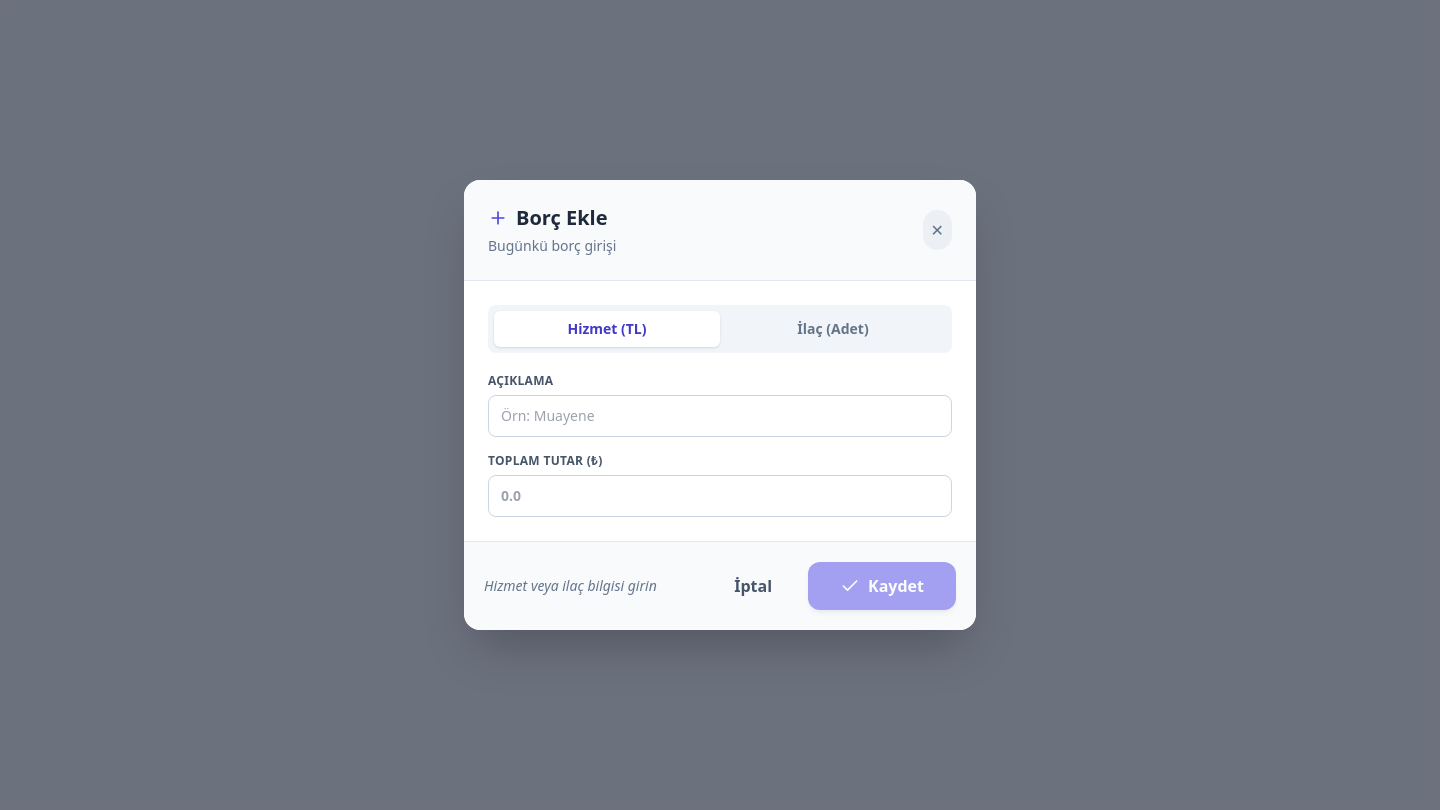
Test: DebtModal › kalem cikarilabilir
Click the button "İlaç (Adet)" at (833, 329), box x1=720 y1=311 x2=946 y2=347
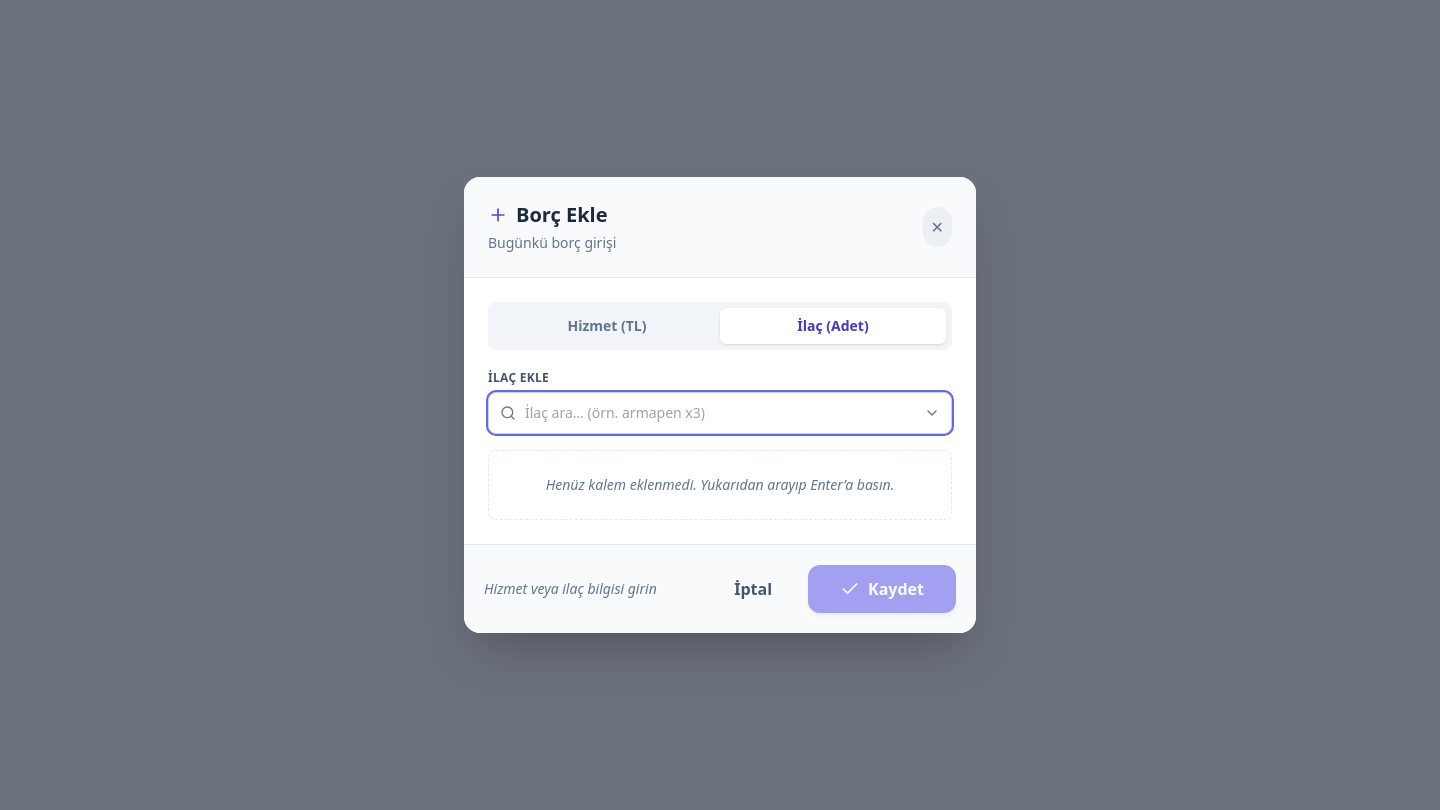
Type "Amoksisilin" into the dropdown at (720, 413), box x1=488 y1=392 x2=952 y2=434
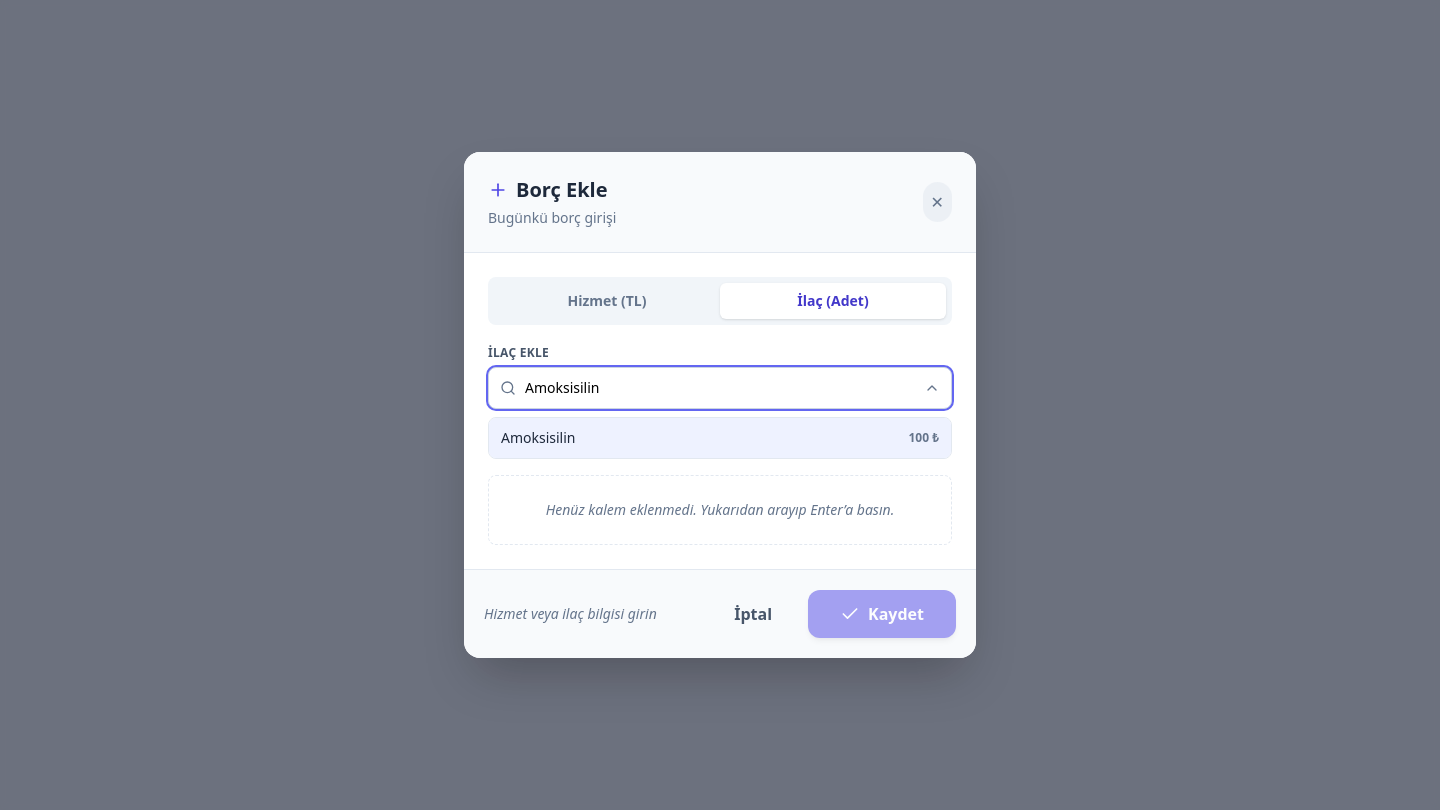
Click the option "Amoksisilin 100 ₺" at (538, 438), box x1=489 y1=418 x2=951 y2=458
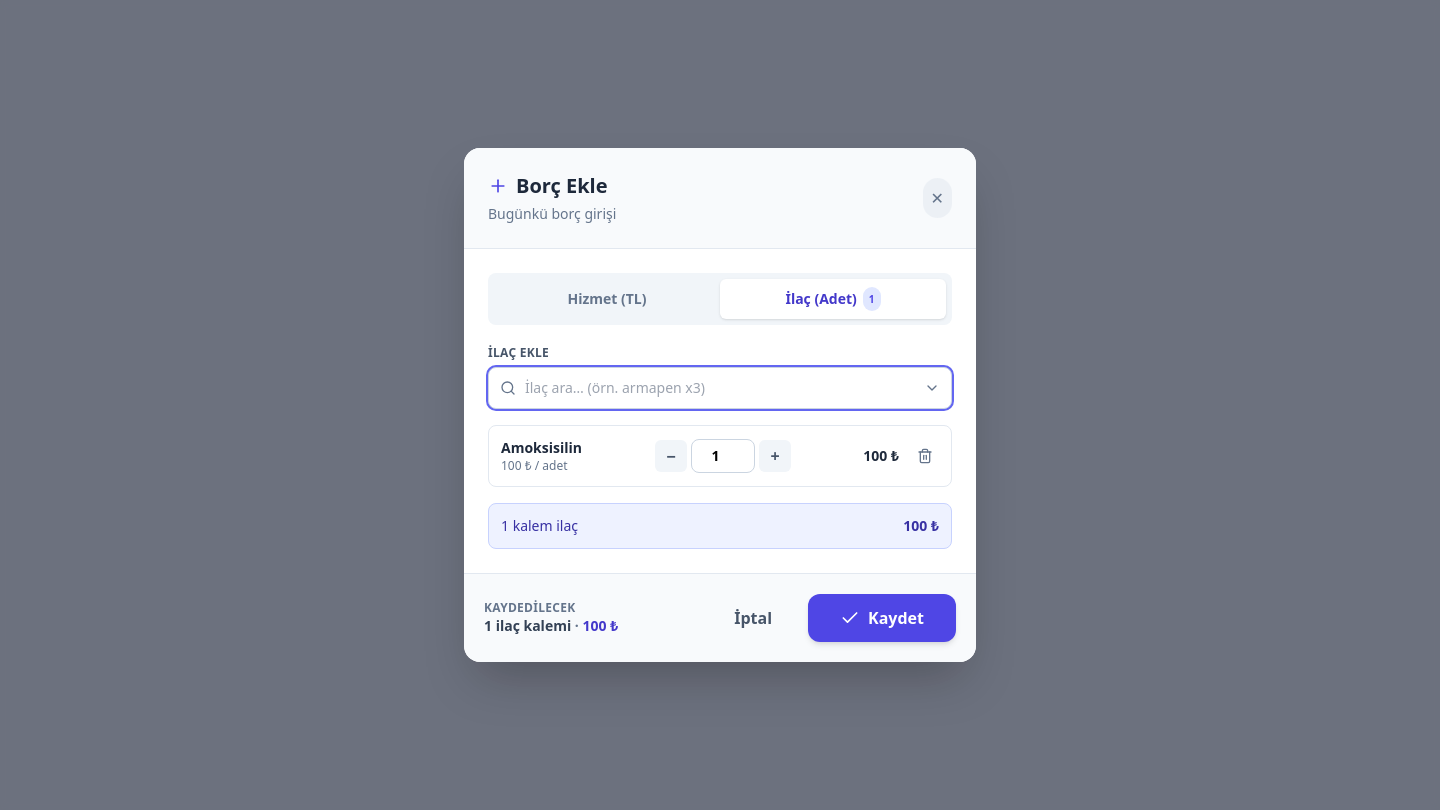
Check: the number field named "Adet" is shown, box x1=691 y1=439 x2=755 y2=473
Click the button titled "Kalemi Çıkar" at (925, 456), box x1=911 y1=442 x2=939 y2=470
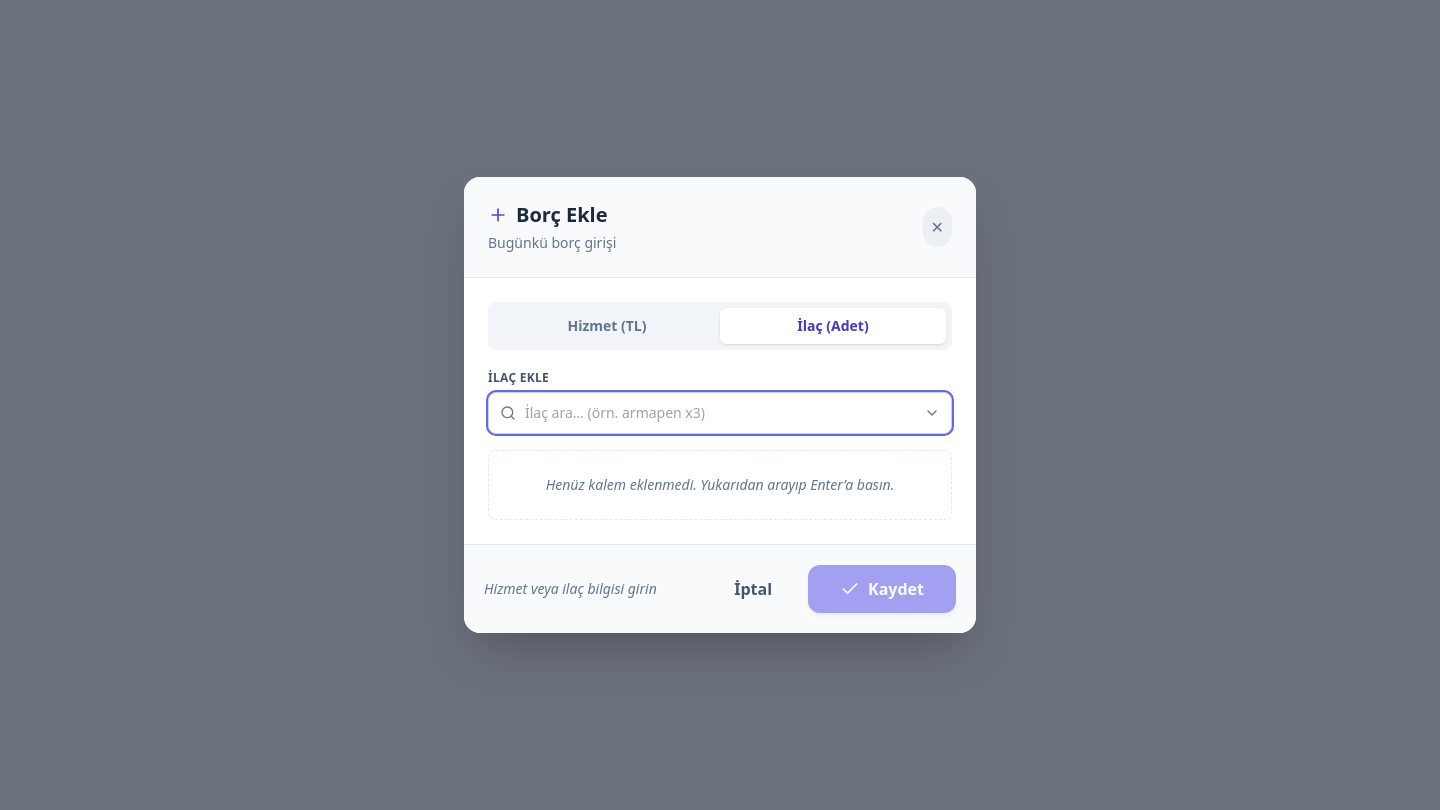
Check: the text "Henüz kalem eklenmedi. Yukarıdan arayıp Enter’a basın." is shown, box x1=488 y1=450 x2=952 y2=520
Check: the button "Kaydet" is disabled, box x1=808 y1=565 x2=956 y2=613
